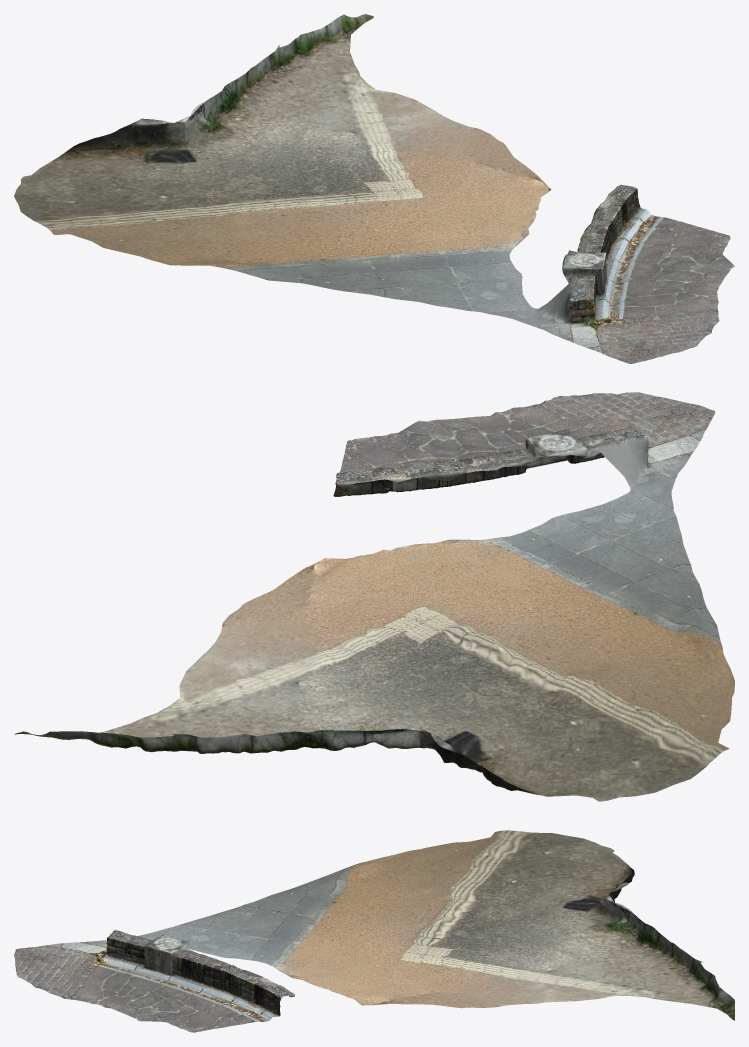
The picture shows the model from 3 angles, top to bottom: view 1: azimuth 30°, elevation 25°; view 2: azimuth 150°, elevation 25°; view 3: azimuth 270°, elevation 25°; orthographic projection. The views are drawn at different scales.
Visible parts, largest first — view 1: baked_mesh_59dd5cbf; view 2: baked_mesh_59dd5cbf; view 3: baked_mesh_59dd5cbf.
Part boxes in pixels (x1,y1,x2,y2): baked_mesh_59dd5cbf: (14, 14, 734, 363); baked_mesh_59dd5cbf: (14, 392, 734, 801); baked_mesh_59dd5cbf: (14, 830, 734, 1032).
Size of the model in its own units: 2.68 by 0.2005 by 3.95.
1 material, 1 textured.
